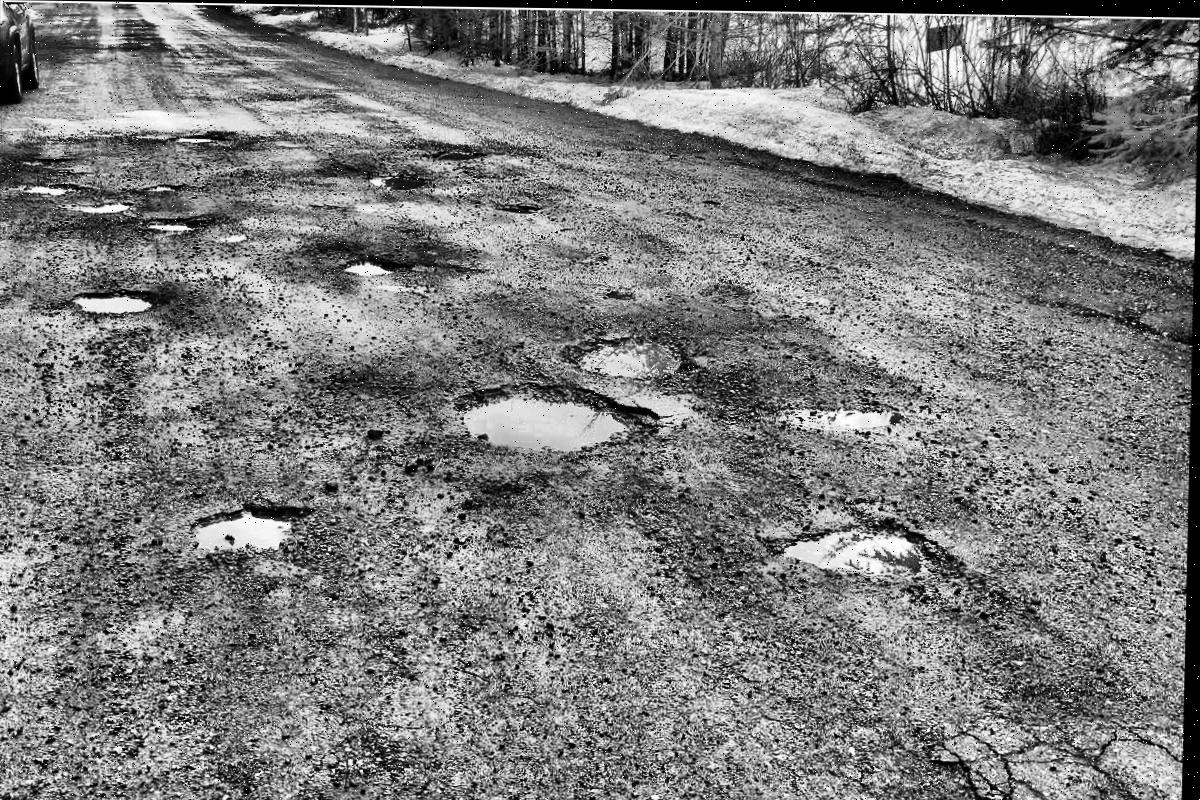pothole: (451, 375, 666, 462), (765, 516, 951, 592), (553, 332, 702, 383), (185, 500, 304, 554), (778, 396, 899, 435), (69, 285, 158, 321), (335, 254, 410, 280), (78, 192, 136, 221), (377, 167, 432, 195), (428, 143, 486, 168), (26, 175, 71, 203), (149, 215, 201, 239), (492, 198, 540, 220), (171, 130, 216, 146)
